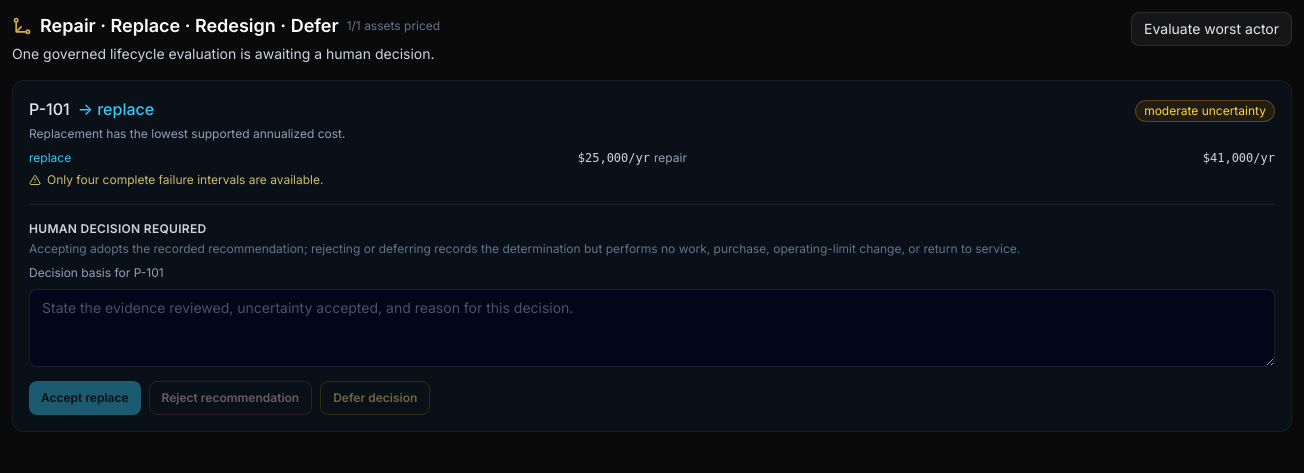
Test case: LifecycleDecisions › lets an authorized human accept a recorded recommendation with reasoning
Replace the text in the text box labelled "Decision basis for P-101" with "Approved after reviewing the recorded economics and uncertainty.": (652, 328) [29,289,1275,367]
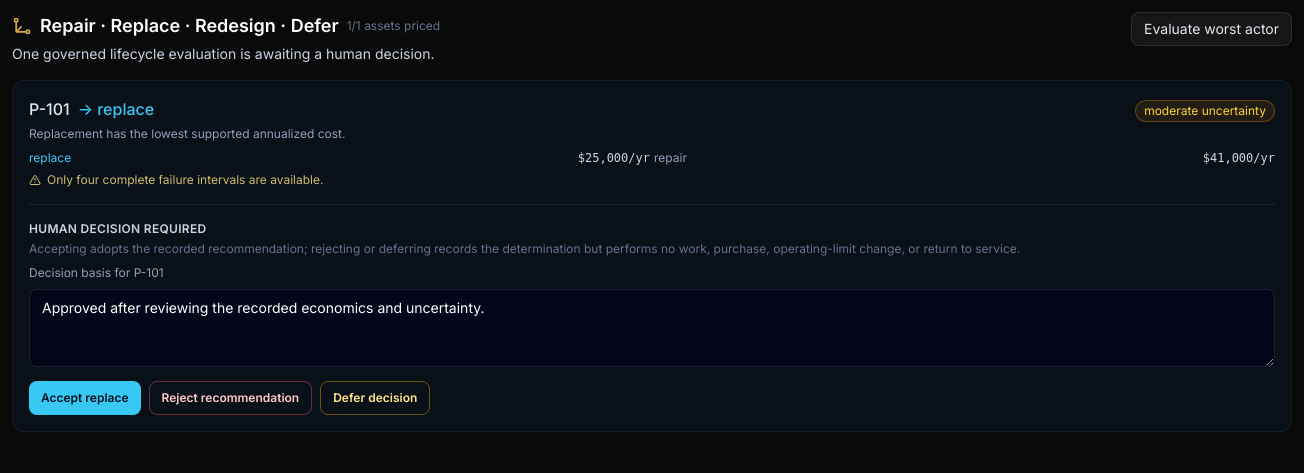
Click the button with aria-label "Accept replace recommendation": (85, 398) [29,381,141,415]
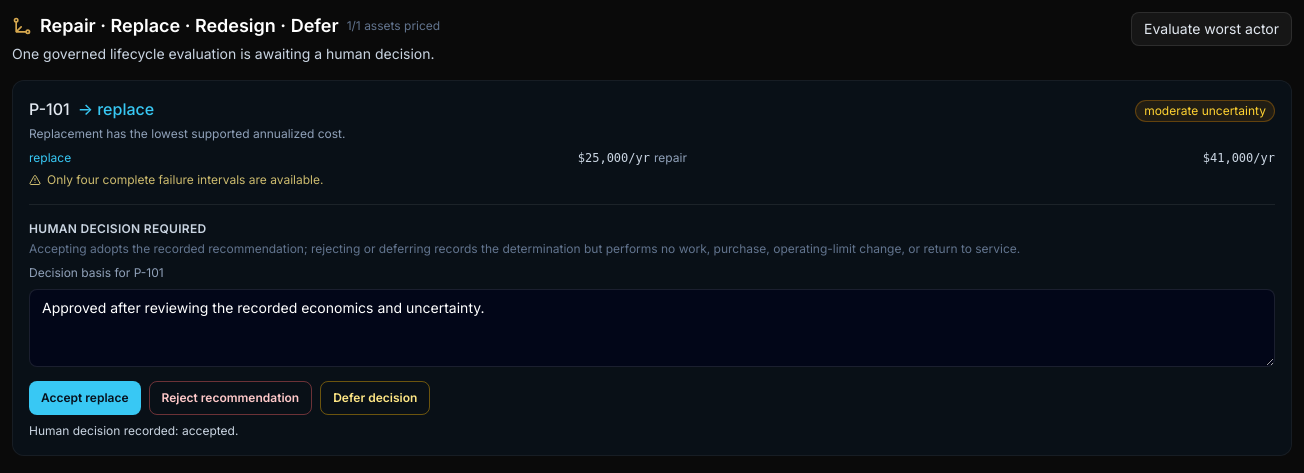
Expected: the text "Human decision recorded: accepted." is shown, [29,423,238,438]
